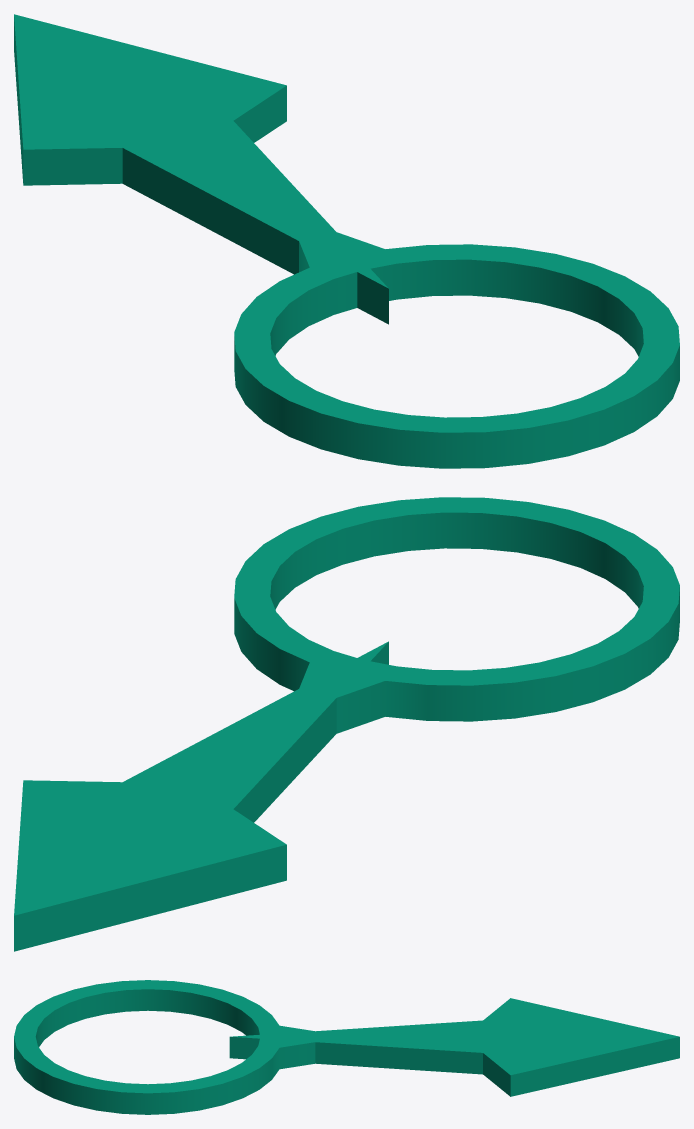
The model's file is arrow.fbx.
3 views of the same model, one above another, from view 1: azimuth 30°, elevation 25°; view 2: azimuth 150°, elevation 25°; view 3: azimuth 270°, elevation 25° (orthographic). The views are drawn at different scales.
Visible parts, largest first — view 1: arrow_2, arrow_1; view 2: arrow_2, arrow_1; view 3: arrow_1, arrow_2.
Boxes of the visible parts, x1=… form: arrow_2: x1=234, y1=232, x2=679, y2=468; arrow_1: x1=14, y1=14, x2=388, y2=324; arrow_2: x1=234, y1=497, x2=679, y2=733; arrow_1: x1=14, y1=641, x2=388, y2=951; arrow_1: x1=229, y1=998, x2=679, y2=1096; arrow_2: x1=14, y1=980, x2=325, y2=1114.
Size of the model in its own units: 54.96 by 4.88 by 136.
